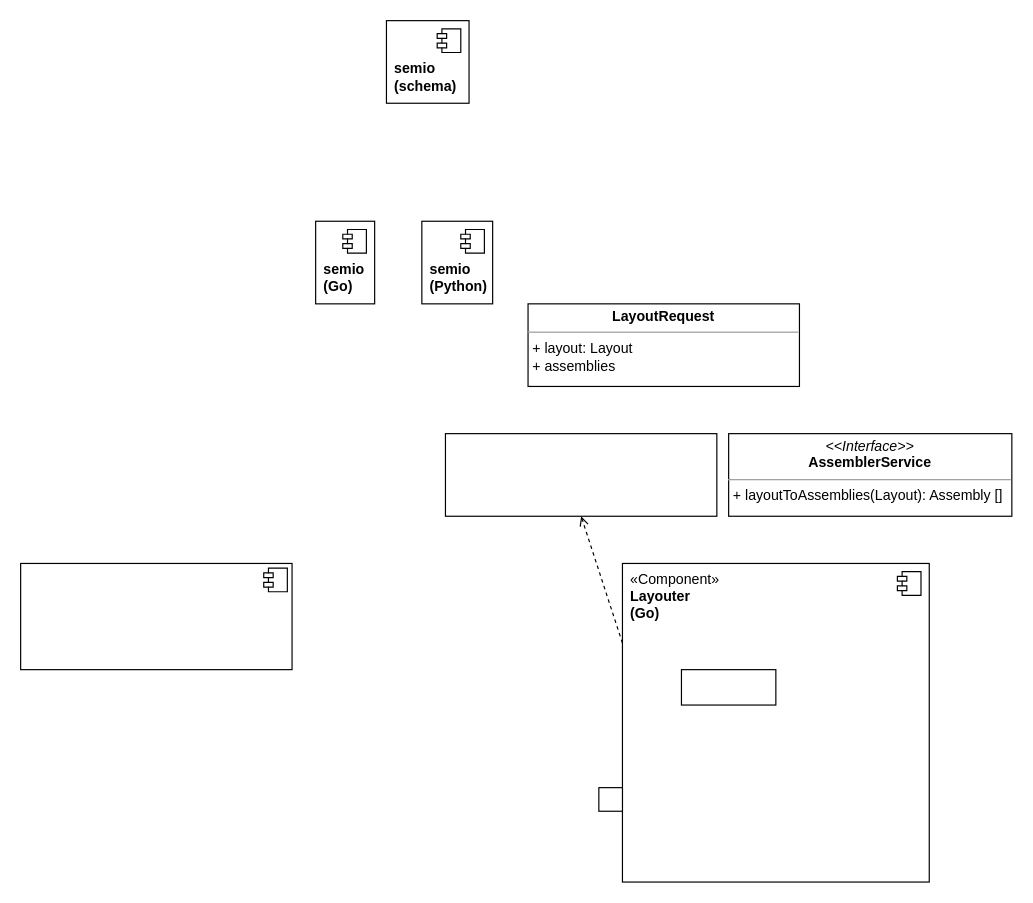
Some shapes in this 1033 by 903 pixel diagram are drawn without their labels. The box of each missing label's shape, as (x1, y1, x2, y2) in pixels:
:Assembler: (680, 668, 776, 705)
<<Interface>> LayoutService + layoutDesign(LayoutRequest): Design: (444, 432, 717, 516)
«subsystem» Component + Attribute1: Type + Attribute2: Type: (19, 562, 292, 670)
